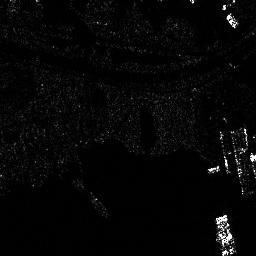ship: (215, 214, 237, 256)
